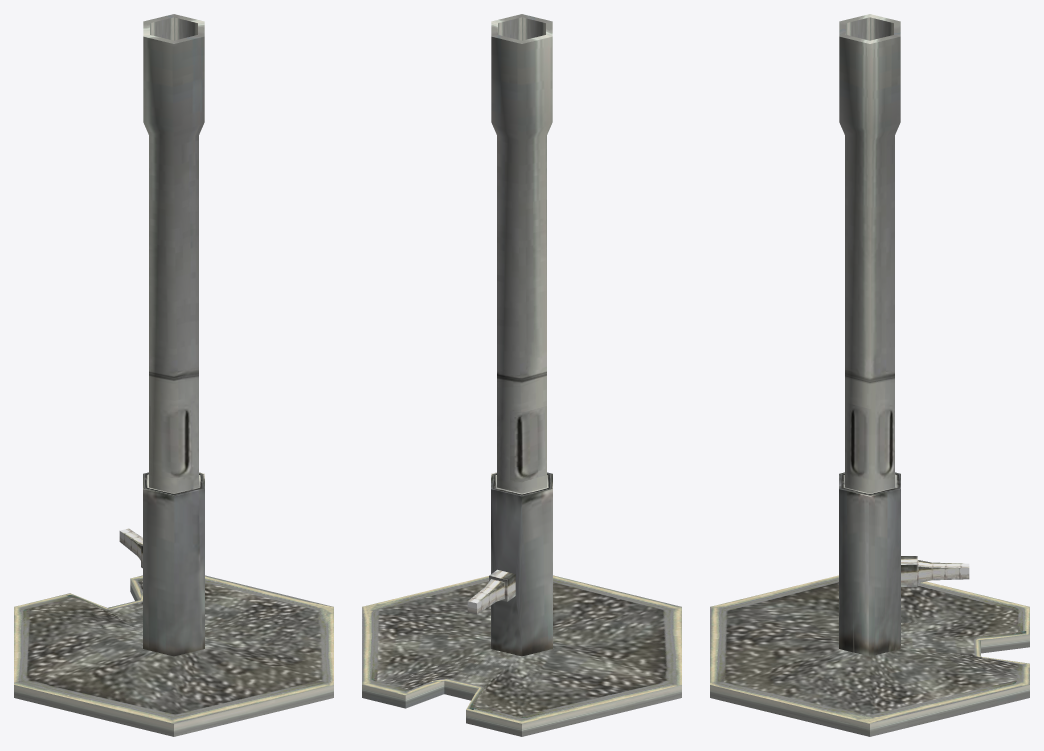
Rendered from Bunsen_Burner.fbx.
3 views of the same model, side by side, from view 1: azimuth 30°, elevation 25°; view 2: azimuth 150°, elevation 25°; view 3: azimuth 270°, elevation 25° (orthographic).
Parts seen in each view (by area): view 1: Bunsen_Burner; view 2: Bunsen_Burner; view 3: Bunsen_Burner.
Boxes of the visible parts, bbox=[...] form: Bunsen_Burner: bbox=[14, 14, 333, 736]; Bunsen_Burner: bbox=[362, 14, 681, 736]; Bunsen_Burner: bbox=[710, 14, 1029, 736].
Size of the model in its own units: 0.1114 by 0.2096 by 0.0965.
